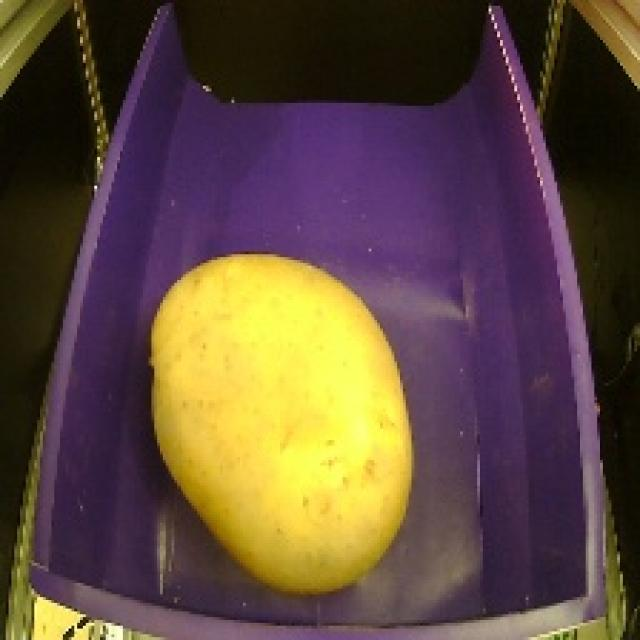full_potato: (124, 237, 429, 606)
